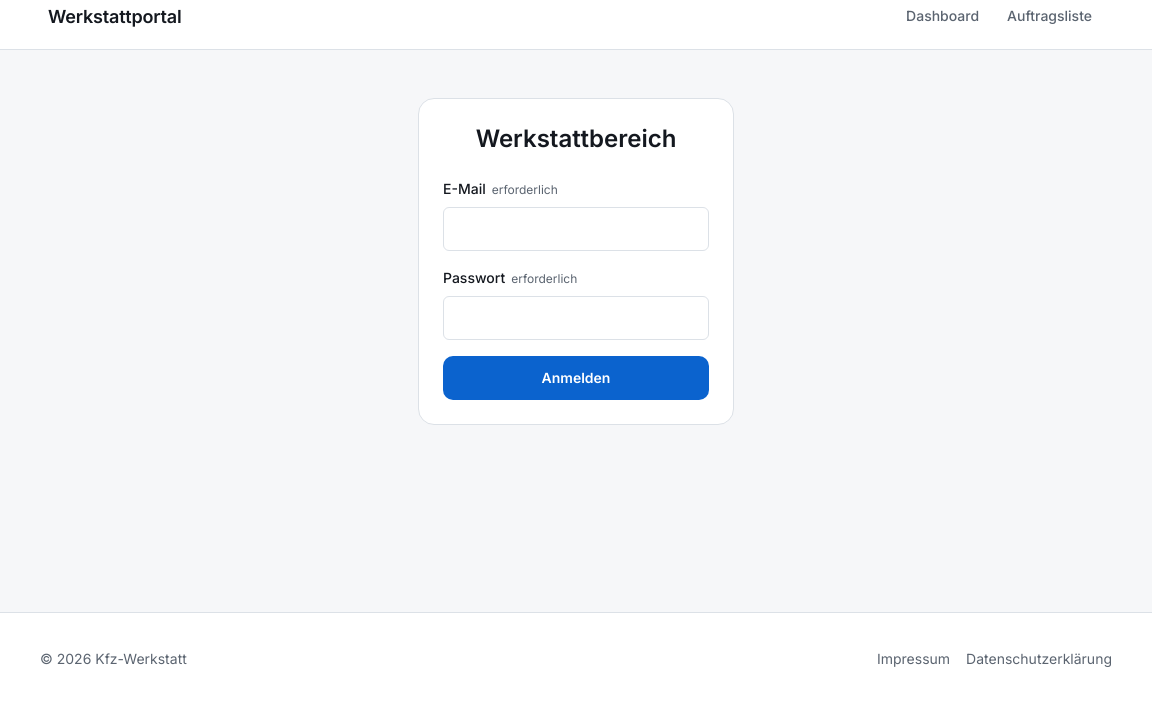
Test: WorkshopLogin › names the rate limit on a 429 and shows its own message
The image size is (1152, 705).
Type "anna@werkstatt.de" into the field labelled "E-Mail" at (576, 229), box [443, 207, 709, 251]
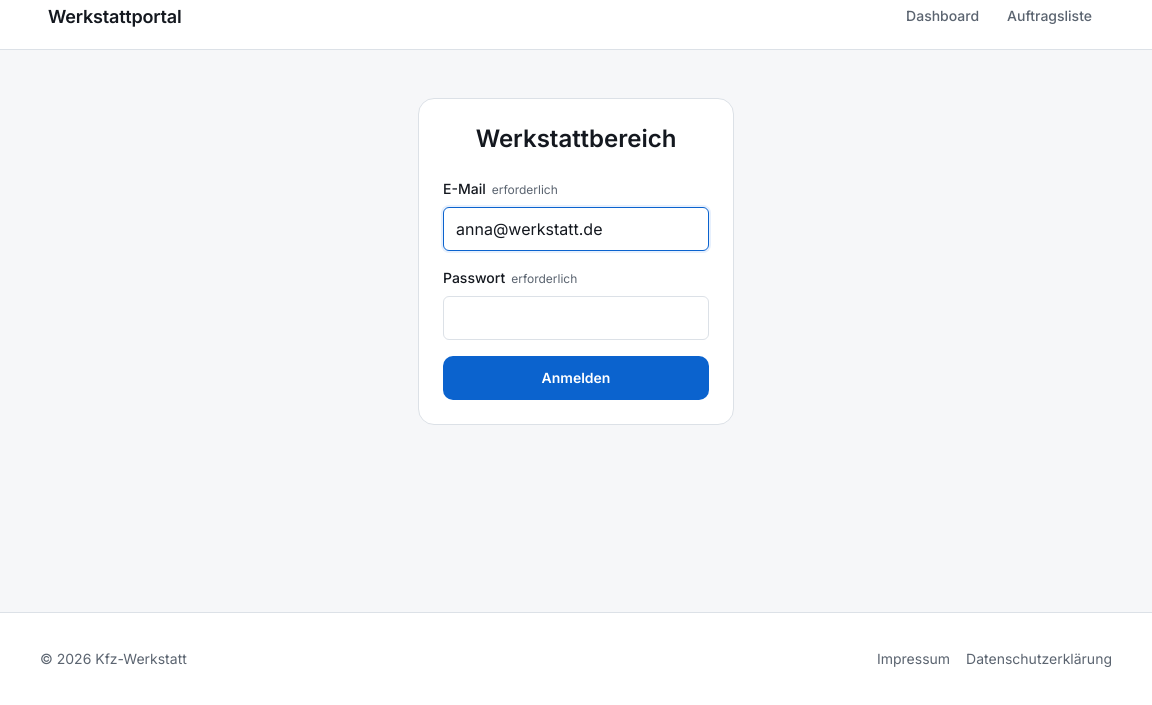
Type "geheim" into the password field labelled "Passwort" at (576, 318), box [443, 296, 709, 340]
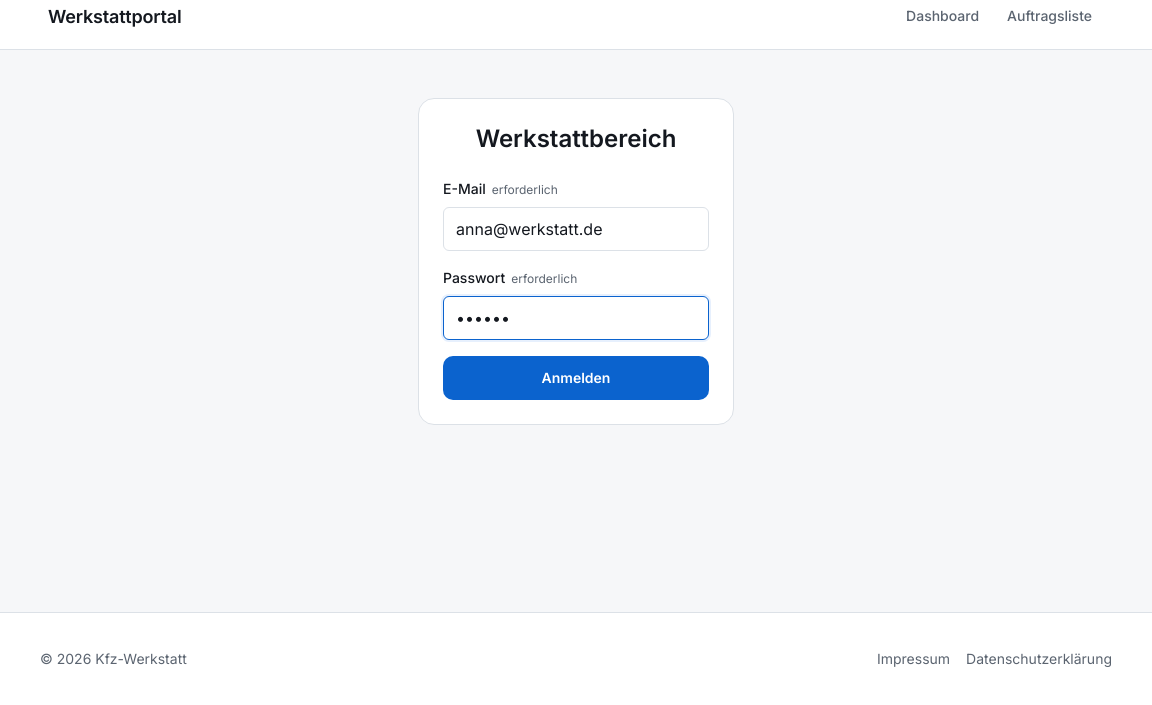
Click the button "Anmelden" at (576, 378), box [443, 356, 709, 400]
(page scrolled)
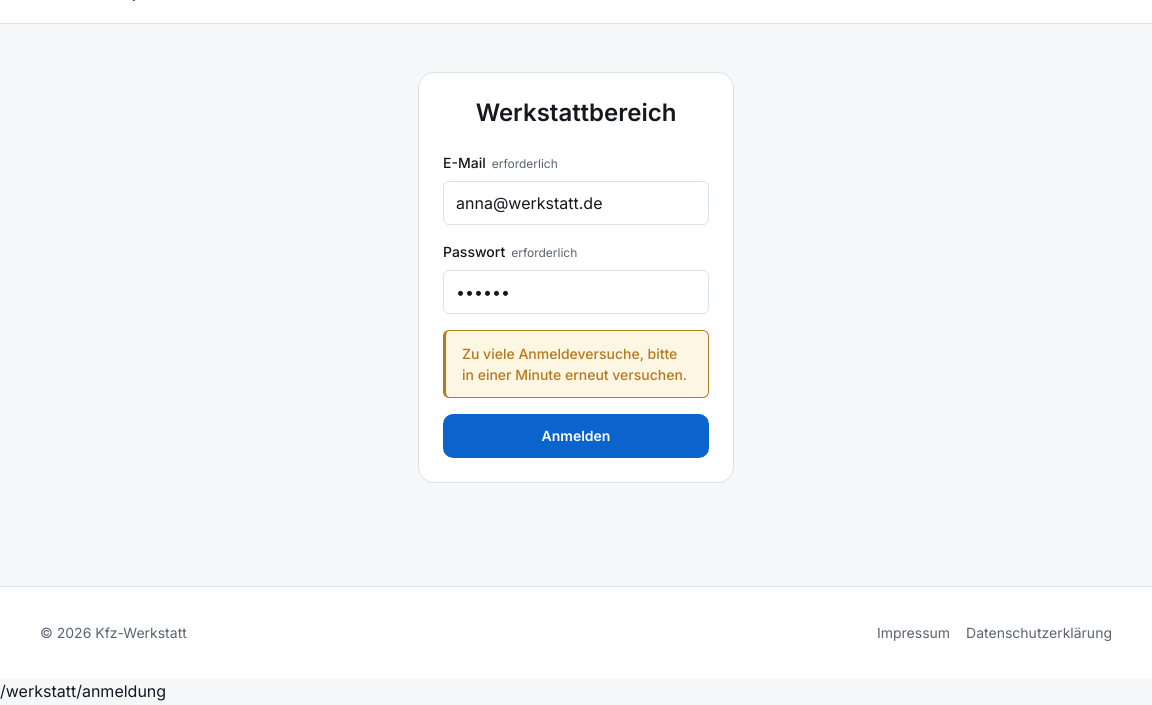
Expected: the text with test id "location" reads "/werkstatt/anmeldung", [0, 681, 166, 701]
Expected: the message with test id "login-alert" reads "Zu viele Anmeldeversuche, bitte in einer Minute erneut versuchen.", [462, 345, 687, 383]
